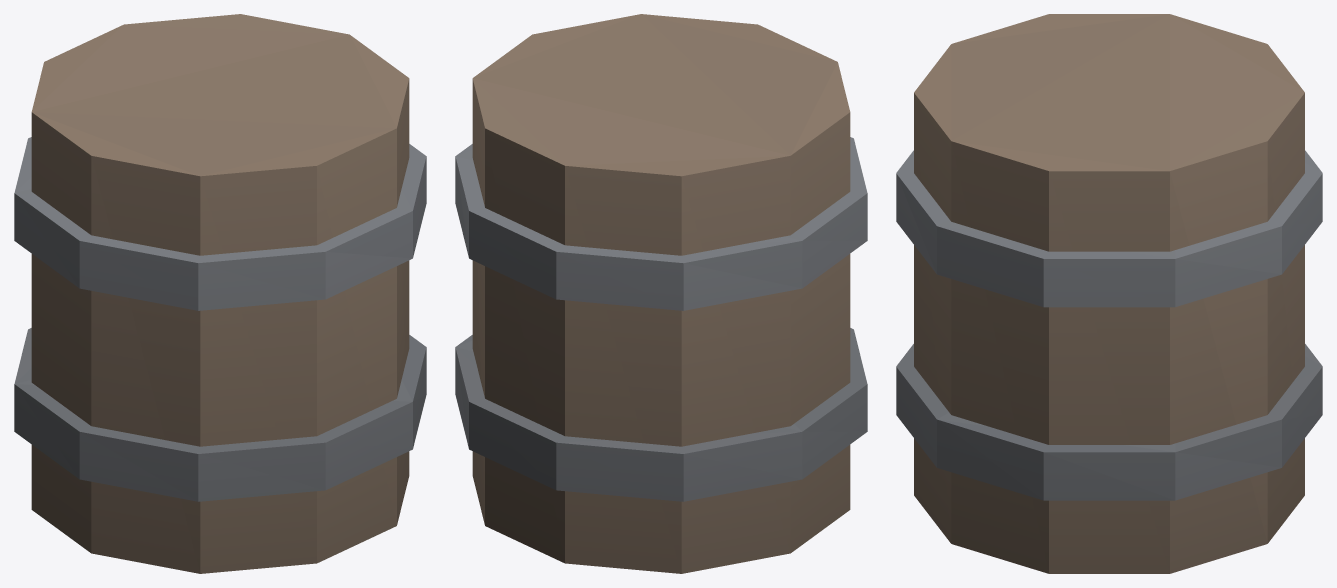
Rendered from barrel.glb.
3 renders of one model, left to right at view 1: azimuth 30°, elevation 25°; view 2: azimuth 150°, elevation 25°; view 3: azimuth 270°, elevation 25°, orthographic.
Visible parts, largest first — view 1: barrel; view 2: barrel; view 3: barrel.
Boxes of the visible parts, left/top/right/bottom form: barrel: left=14, top=14, right=426, bottom=573; barrel: left=455, top=14, right=867, bottom=573; barrel: left=896, top=14, right=1322, bottom=573.
Bounding box in the file's own units: 0.4565 × 0.5 × 0.48.
